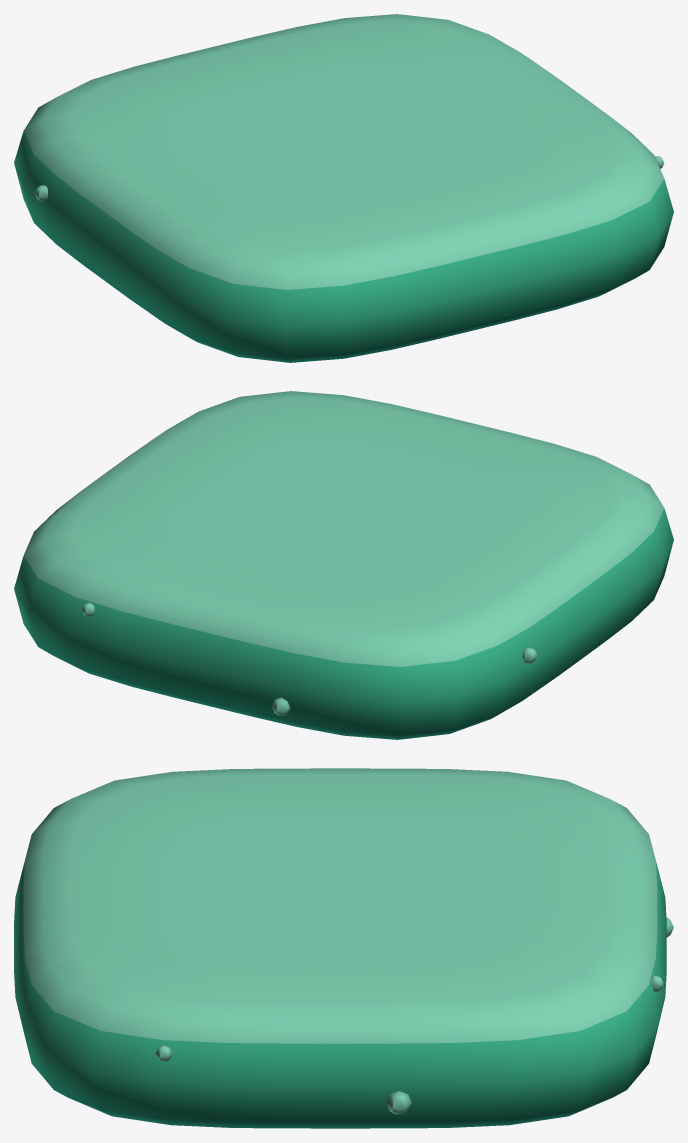
The model's file is jelly.glb.
The picture shows the model from 3 angles, top to bottom: view 1: azimuth 30°, elevation 25°; view 2: azimuth 150°, elevation 25°; view 3: azimuth 270°, elevation 25°; orthographic projection. The views are drawn at different scales.
Parts seen in each view (by area): view 1: body; view 2: body; view 3: body.
Boxes of the visible parts, x1=… form: body: x1=14, y1=14, x2=673, y2=362; body: x1=14, y1=391, x2=673, y2=739; body: x1=14, y1=768, x2=673, y2=1128.
Size of the model in its own units: 0.926 by 0.18 by 0.9164.
